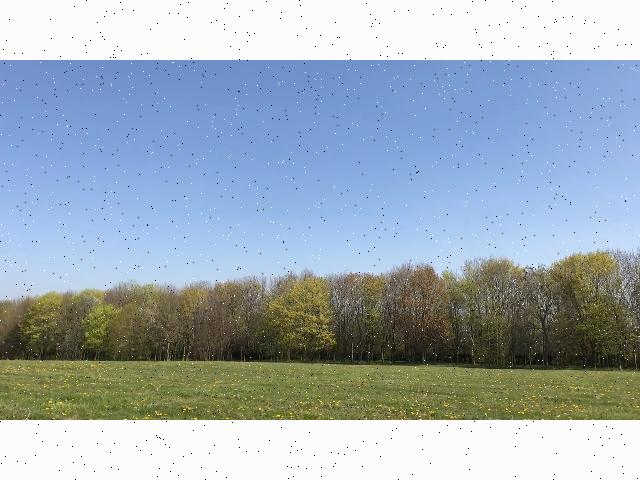Anti-Drone: (306, 196, 334, 214)
